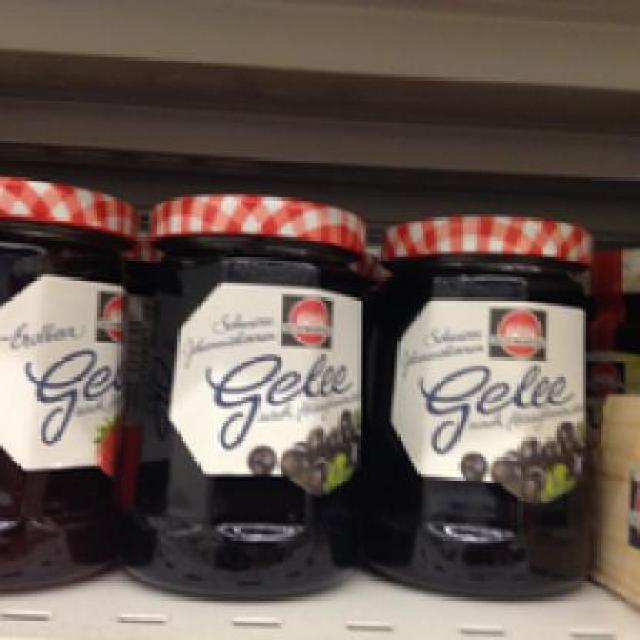Jam: (123, 189, 366, 600), (363, 209, 594, 600), (0, 173, 135, 598)
